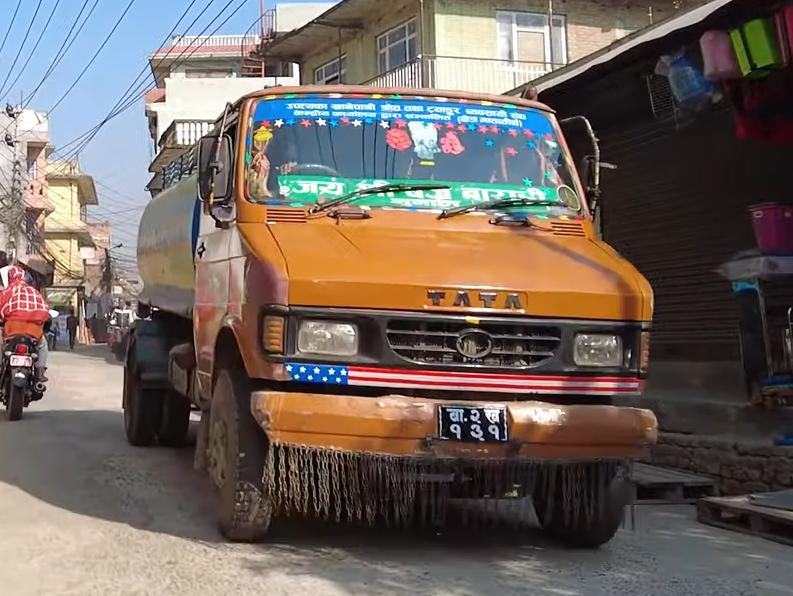bike: (0, 245, 59, 431)
mini_truck: (121, 73, 664, 547)
